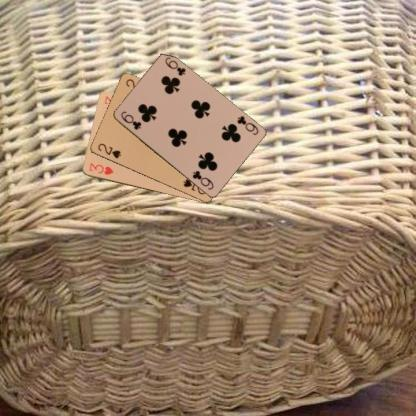2s: (95, 140, 122, 160)
3h: (86, 160, 114, 176)
6c: (234, 113, 259, 136), (118, 109, 142, 131)
